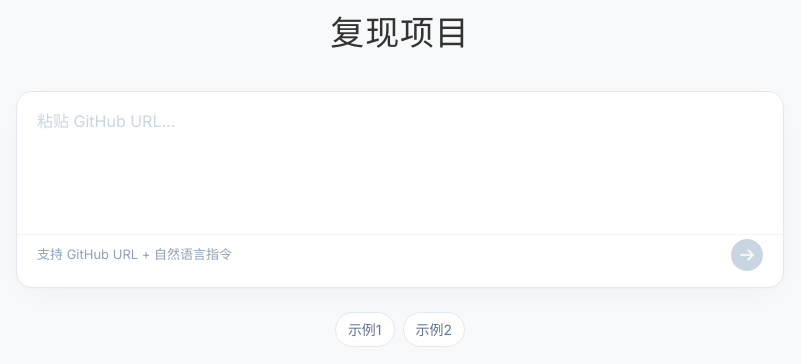
Scenario: WelcomePage › clicking suggestion fills input
Click the button "示例1" at (365, 330), box left=335, top=312, right=395, bottom=347
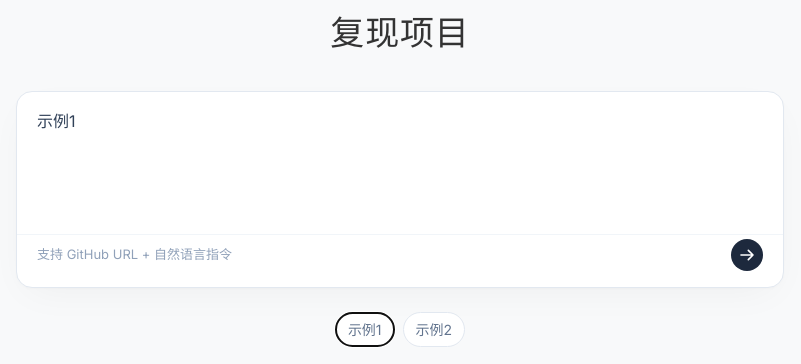
Now the text box holds "示例1", box left=37, top=108, right=763, bottom=212
